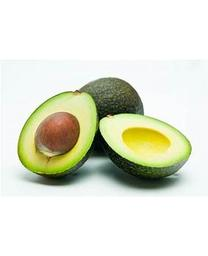avocado: (17, 90, 99, 178), (100, 113, 192, 182), (74, 77, 145, 158)
